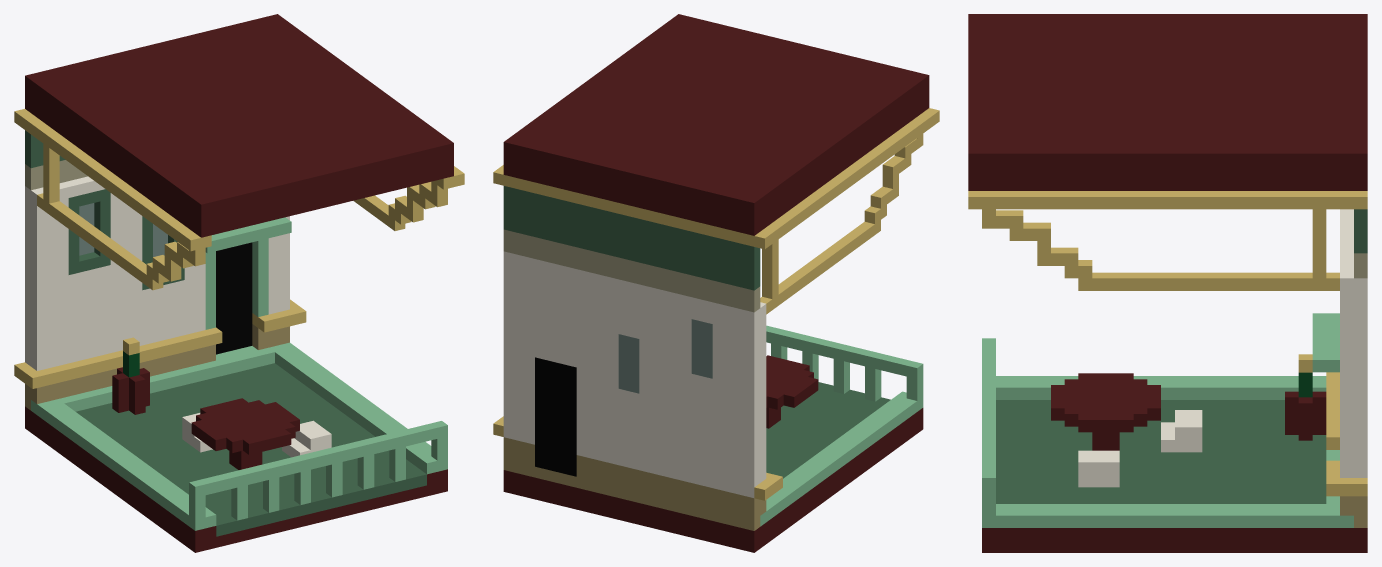
File: tile_3_left_90.obj
3 views of the same model, side by side, from view 1: azimuth 30°, elevation 25°; view 2: azimuth 150°, elevation 25°; view 3: azimuth 270°, elevation 25° (orthographic). The views are drawn at different scales.
Bounding box in the file's own units: 2.6 × 3.2 × 2.9.
